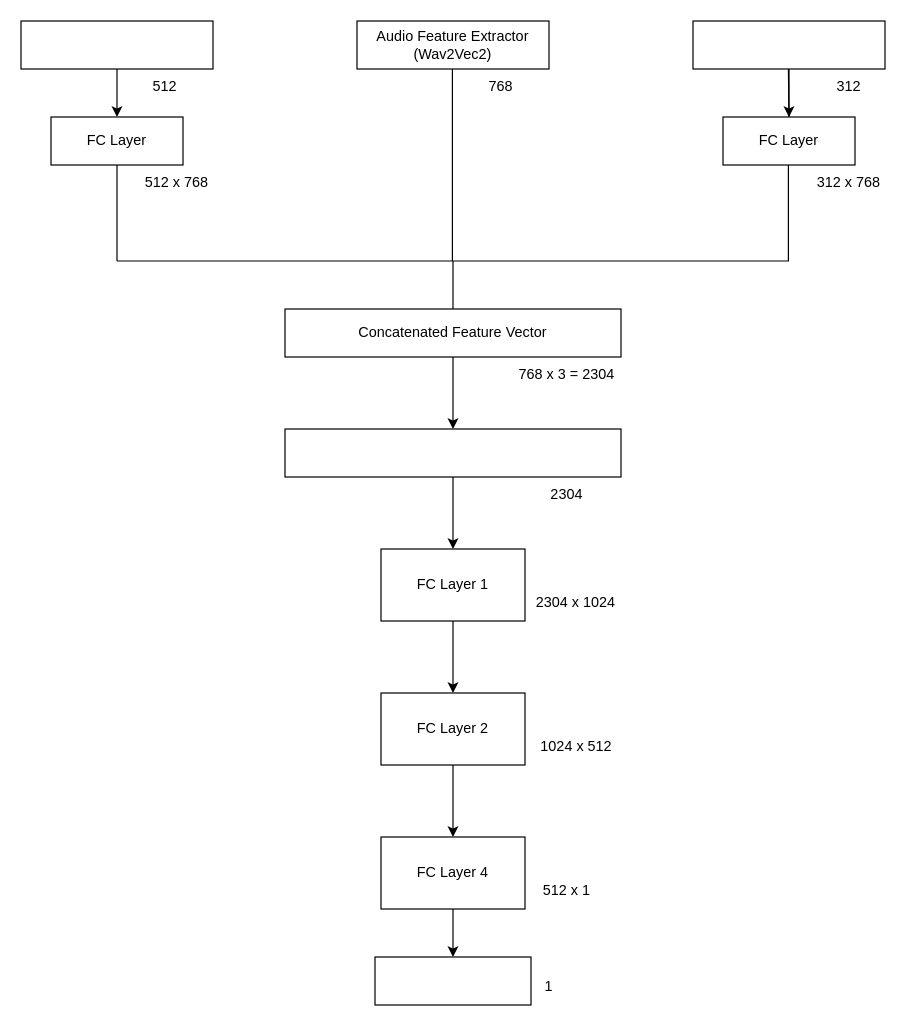
This 906x1026 diagram has some shape labels left out. The box of each missing label's shape, as (x1, y1, x2, y2) in pixels:
Concatenated Feature Vector (Normalized): (284, 428, 621, 477)
Output: (374, 956, 531, 1005)
Text Feature Extractor (Tiny Bert): (692, 20, 885, 69)
Video Feature Extractor (Resnet 18): (20, 20, 213, 69)
